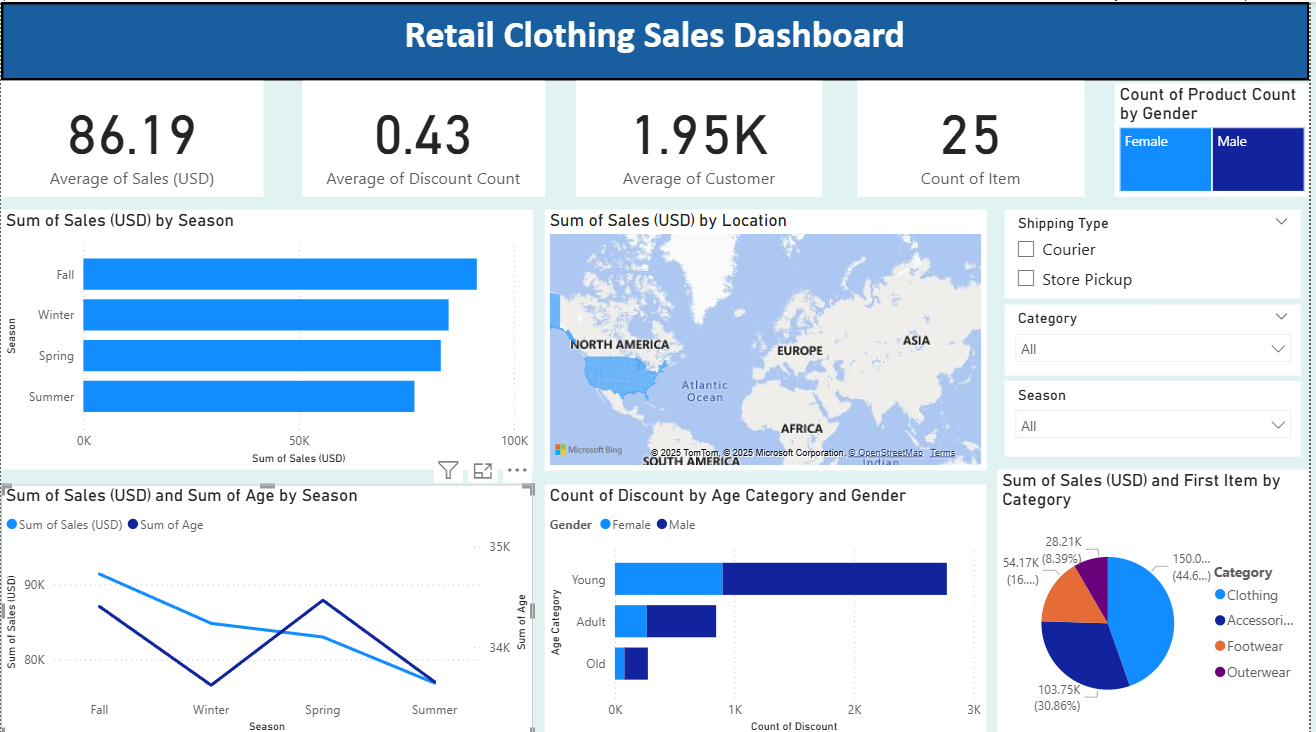

What the dashboard file says about the page in this screenshot:
{"tool":"powerbi","page":{"name":"Page 1","canvas":[1280,720],"ordinal":0},"visuals":[{"type":"textbox","box":[0,0,1280.3,77],"z":0},{"type":"card","fields":{"Values":["Avg(Retail_Clothing_Sales_Retail_Clothing_Sales (1).Sales (USD))"]},"box":[0,77,256.8,113.7],"z":1000},{"type":"card","fields":{"Values":["Avg(Retail_Clothing_Sales_Retail_Clothing_Sales (1).Discount Count)"]},"box":[294.7,77,237.2,113.7],"z":2000},{"type":"card","fields":{"Values":["Avg(Retail_Clothing_Sales_Retail_Clothing_Sales (1).Customer)"]},"box":[562.5,77,240.9,113.7],"z":3000},{"type":"card","fields":{"Values":["Count(Retail_Clothing_Sales_Retail_Clothing_Sales (1).Item)"]},"box":[837.6,77,222.6,113.7],"z":4000},{"type":"clusteredBarChart","fields":{"Category":["Retail_Clothing_Sales_Retail_Clothing_Sales (1).Season"],"Y":["Sum(Retail_Clothing_Sales_Retail_Clothing_Sales (1).Sales (USD))"]},"box":[0,203,520.9,254.3],"z":5000},{"type":"filledMap","fields":{"Category":["Retail_Clothing_Sales_Retail_Clothing_Sales (1).Location"]},"box":[531.9,203,431.7,254.3],"z":6000},{"type":"pieChart","fields":{"Y":["Sum(Retail_Clothing_Sales_Retail_Clothing_Sales (1).Sales (USD))"],"Category":["Retail_Clothing_Sales_Retail_Clothing_Sales (1).Category"]},"box":[974.6,457.3,305.7,262.9],"z":7000},{"type":"lineChart","fields":{"Y":["Sum(Retail_Clothing_Sales_Retail_Clothing_Sales (1).Sales (USD))"],"Category":["Retail_Clothing_Sales_Retail_Clothing_Sales (1).Season"],"Y2":["Sum(Retail_Clothing_Sales_Retail_Clothing_Sales (1).Age)"]},"box":[0,472,520.9,248.2],"z":8000},{"type":"barChart","fields":{"Y":["CountNonNull(Retail_Clothing_Sales_Retail_Clothing_Sales (1).Discount)"],"Category":["Retail_Clothing_Sales_Retail_Clothing_Sales (1).Age Category"],"Series":["Retail_Clothing_Sales_Retail_Clothing_Sales (1).Gender"]},"box":[531.9,472,431.7,248.2],"z":9000},{"type":"treemap","fields":{"Values":["Count(Retail_Clothing_Sales_Retail_Clothing_Sales (1).Product Count)"],"Group":["Retail_Clothing_Sales_Retail_Clothing_Sales (1).Gender"]},"box":[1089.5,79.5,190.8,111.3],"z":10000},{"type":"slicer","fields":{"Values":["Retail_Clothing_Sales_Retail_Clothing_Sales (1).Season"]},"box":[981.9,370.5,289.8,74.6],"z":11000},{"type":"slicer","fields":{"Values":["Retail_Clothing_Sales_Retail_Clothing_Sales (1).Category"]},"box":[981.9,295.9,289.8,69.7],"z":12000},{"type":"slicer","fields":{"Values":["Retail_Clothing_Sales_Retail_Clothing_Sales (1).Shipping Type"]},"box":[981.9,203,289.8,86.8],"z":13000}]}

Visuals, with their boxes in screenshot pixels (x1, y1, x2, y2), scaled from the page's 1280x720 canvas onto the 1316x732 screenshot:
textbox: crop(0, 0, 1315, 78)
card - Avg(Retail_Clothing_Sales_Retail_Clothing_Sales (1).Sales (USD)): crop(0, 78, 264, 194)
card - Avg(Retail_Clothing_Sales_Retail_Clothing_Sales (1).Discount Count): crop(303, 78, 547, 194)
card - Avg(Retail_Clothing_Sales_Retail_Clothing_Sales (1).Customer): crop(578, 78, 826, 194)
card - Count(Retail_Clothing_Sales_Retail_Clothing_Sales (1).Item): crop(861, 78, 1090, 194)
clusteredBarChart - Retail_Clothing_Sales_Retail_Clothing_Sales (1).Season x Sum(Retail_Clothing_Sales_Retail_Clothing_Sales (1).Sales (USD)): crop(0, 206, 536, 465)
filledMap - Retail_Clothing_Sales_Retail_Clothing_Sales (1).Location: crop(547, 206, 991, 465)
pieChart - Sum(Retail_Clothing_Sales_Retail_Clothing_Sales (1).Sales (USD)) x Retail_Clothing_Sales_Retail_Clothing_Sales (1).Category: crop(1002, 465, 1315, 731)
lineChart - Sum(Retail_Clothing_Sales_Retail_Clothing_Sales (1).Sales (USD)) x Retail_Clothing_Sales_Retail_Clothing_Sales (1).Season: crop(0, 480, 536, 731)
barChart - CountNonNull(Retail_Clothing_Sales_Retail_Clothing_Sales (1).Discount) x Retail_Clothing_Sales_Retail_Clothing_Sales (1).Age Category: crop(547, 480, 991, 731)
treemap - Count(Retail_Clothing_Sales_Retail_Clothing_Sales (1).Product Count) x Retail_Clothing_Sales_Retail_Clothing_Sales (1).Gender: crop(1120, 81, 1315, 194)
slicer - Retail_Clothing_Sales_Retail_Clothing_Sales (1).Season: crop(1010, 377, 1307, 453)
slicer - Retail_Clothing_Sales_Retail_Clothing_Sales (1).Category: crop(1010, 301, 1307, 372)
slicer - Retail_Clothing_Sales_Retail_Clothing_Sales (1).Shipping Type: crop(1010, 206, 1307, 295)
